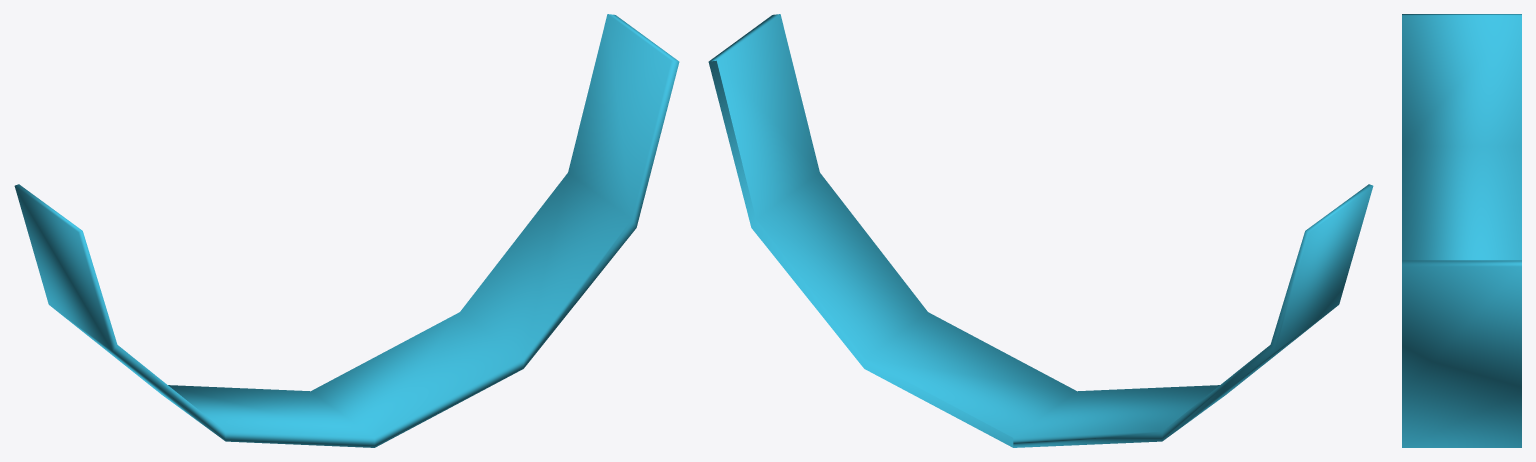
The model's file is glass5.fbx.
3 renders of one model, left to right at view 1: azimuth 30°, elevation 25°; view 2: azimuth 150°, elevation 25°; view 3: azimuth 270°, elevation 25°, orthographic. The views are drawn at different scales.
Parts seen in each view (by area): view 1: Plane_175; view 2: Plane_175; view 3: Plane_175.
Part boxes in pixels (left/top/right/bottom): Plane_175: left=14, top=14, right=679, bottom=447; Plane_175: left=708, top=14, right=1373, bottom=447; Plane_175: left=1402, top=14, right=1521, bottom=447.
Size of the model in its own units: 25.01 by 12.52 by 4.6.
1 material, 1 textured.
